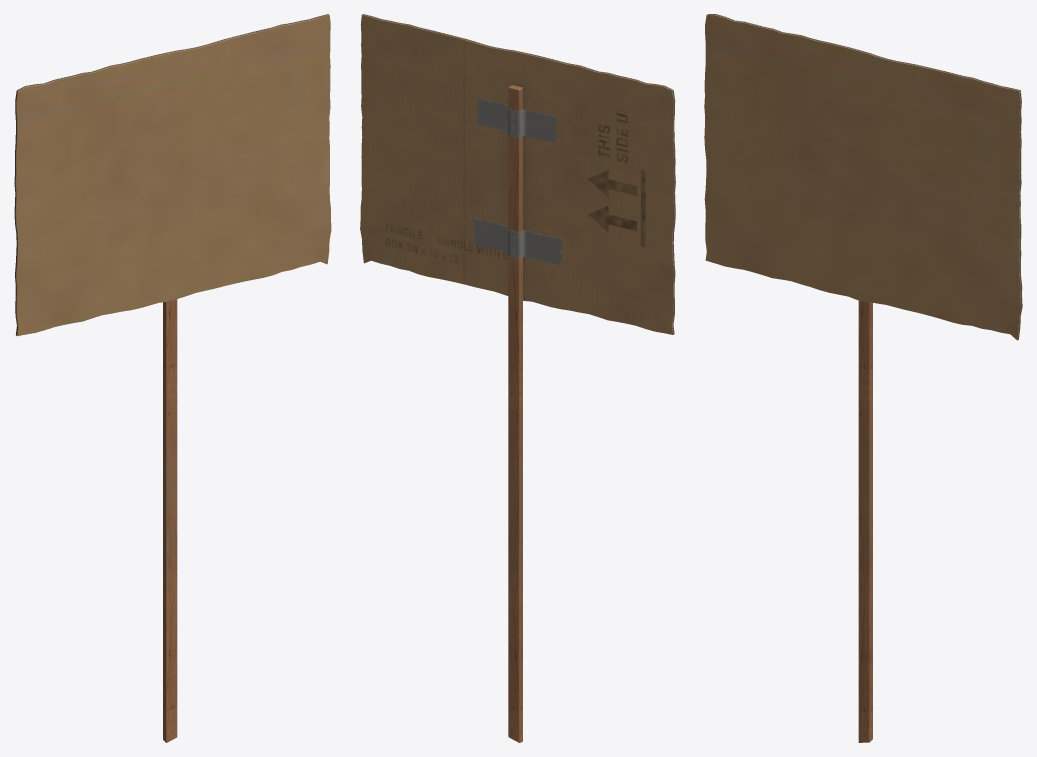
File: corner_camp_sign.glb
3 views of the same model, side by side, from view 1: azimuth 30°, elevation 25°; view 2: azimuth 150°, elevation 25°; view 3: azimuth 330°, elevation 25° (orthographic).
Parts seen in each view (by area): view 1: Sign; view 2: Sign; view 3: Sign.
Boxes of the visible parts, x1,y1,x2,y2 form: Sign: (14,14,331,742); Sign: (360,14,675,742); Sign: (704,14,1022,742).
Bounding box in the file's own units: 0.6057 × 1.27 × 0.0181.
1 material, 1 textured.
